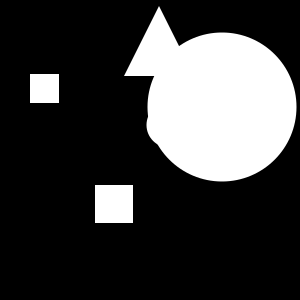circle: (95, 185, 133, 223), (30, 74, 59, 103)
rectangle: (148, 33, 296, 182), (146, 102, 192, 148)
triangle: (124, 6, 194, 76)
